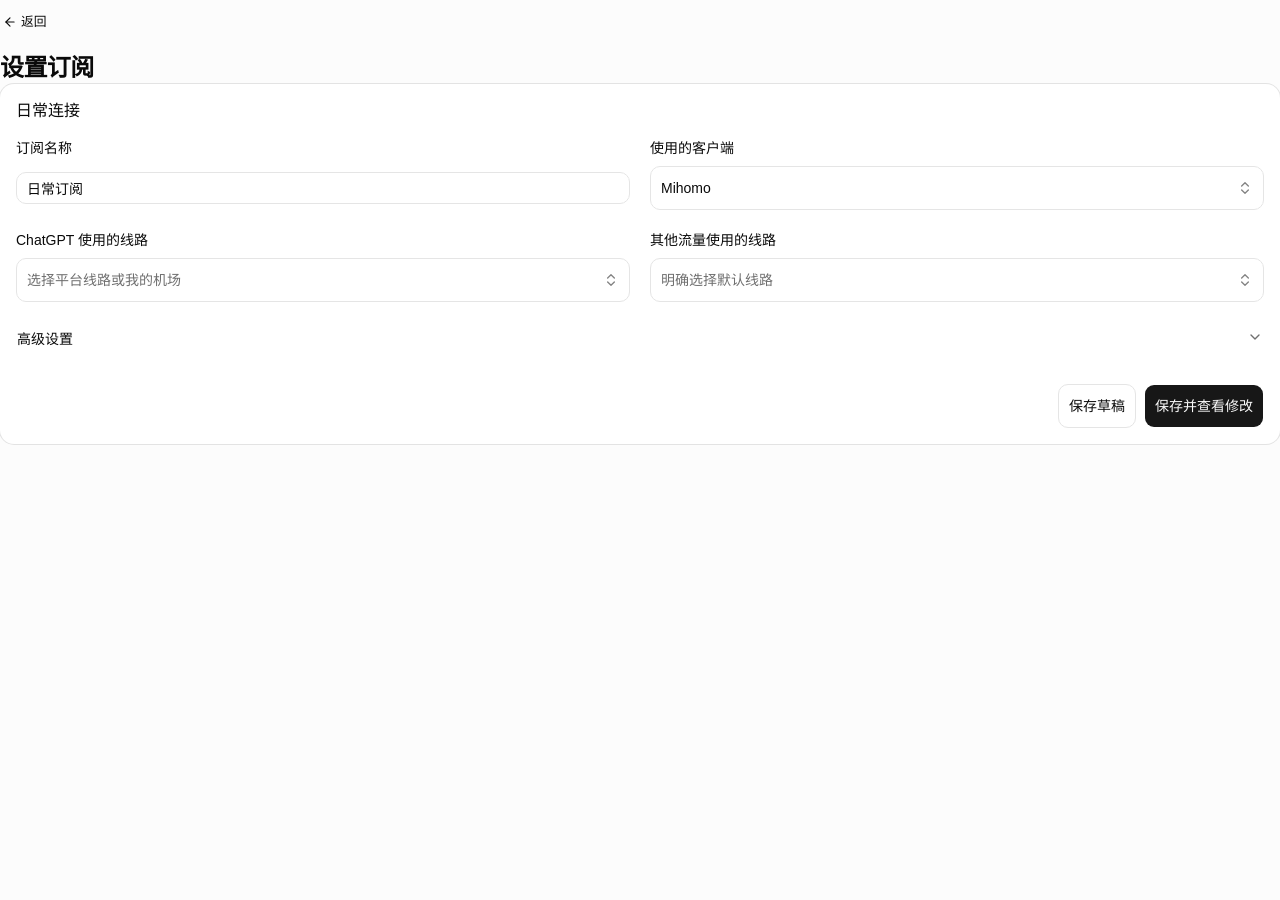
Scenario: keeps selected values after a failed preview and never publishes or shows an invented review
Click the dropdown named "ChatGPT 使用的线路" at (104, 280), box [16,258,630,302]
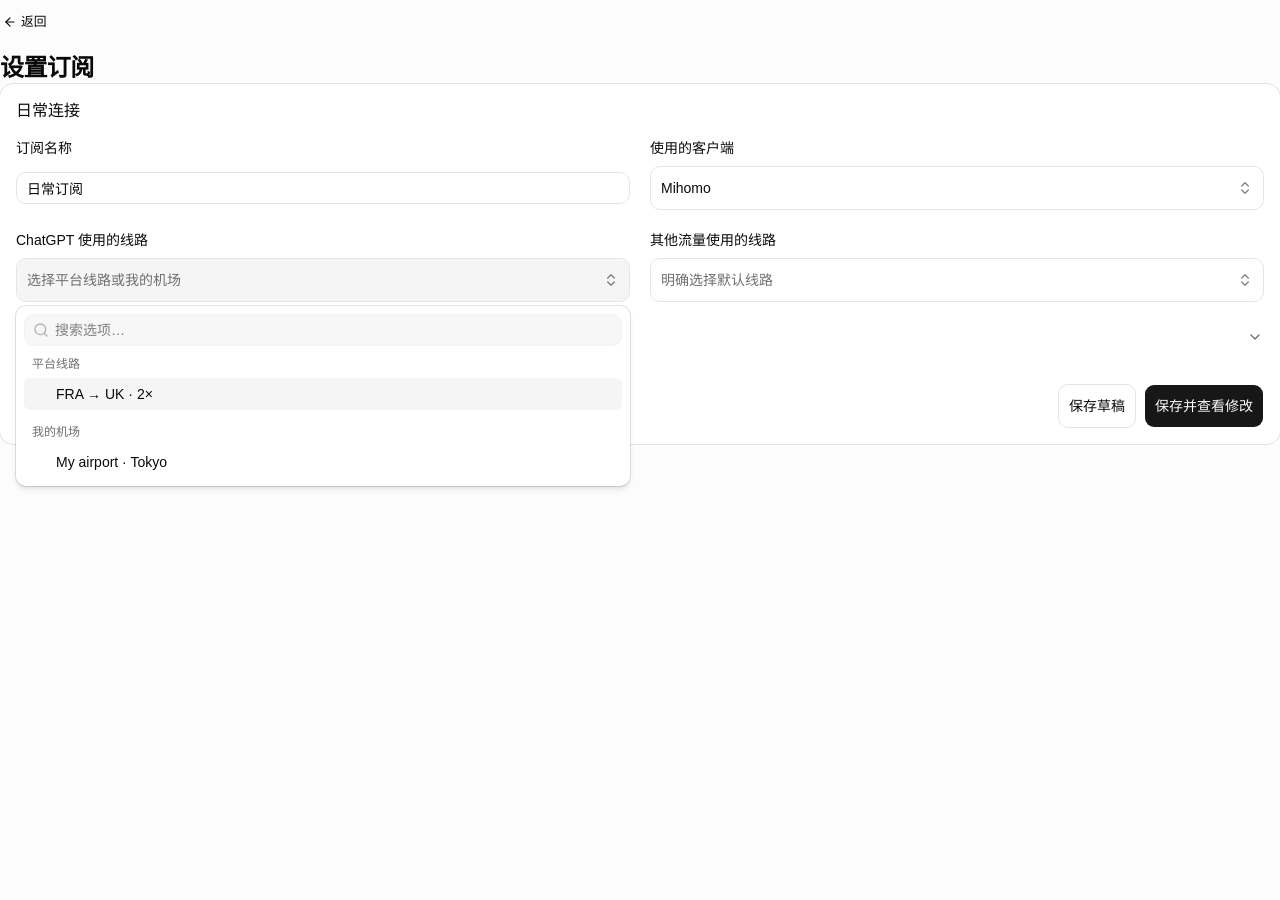
Click the option "FRA → UK · 2×" at (104, 394), box [24,378,622,410]
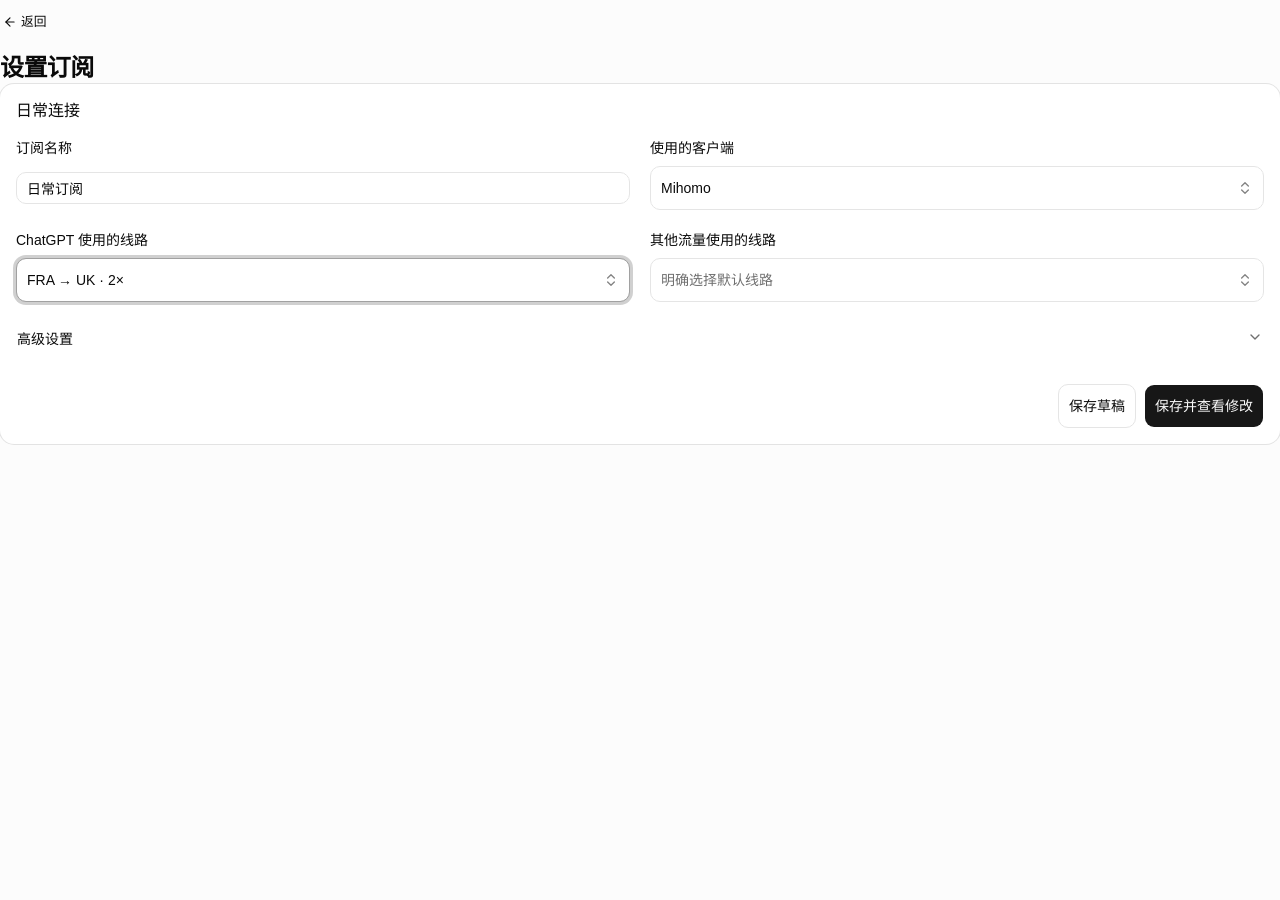
Click the dropdown named "其他流量使用的线路" at (717, 280), box [650,258,1264,302]
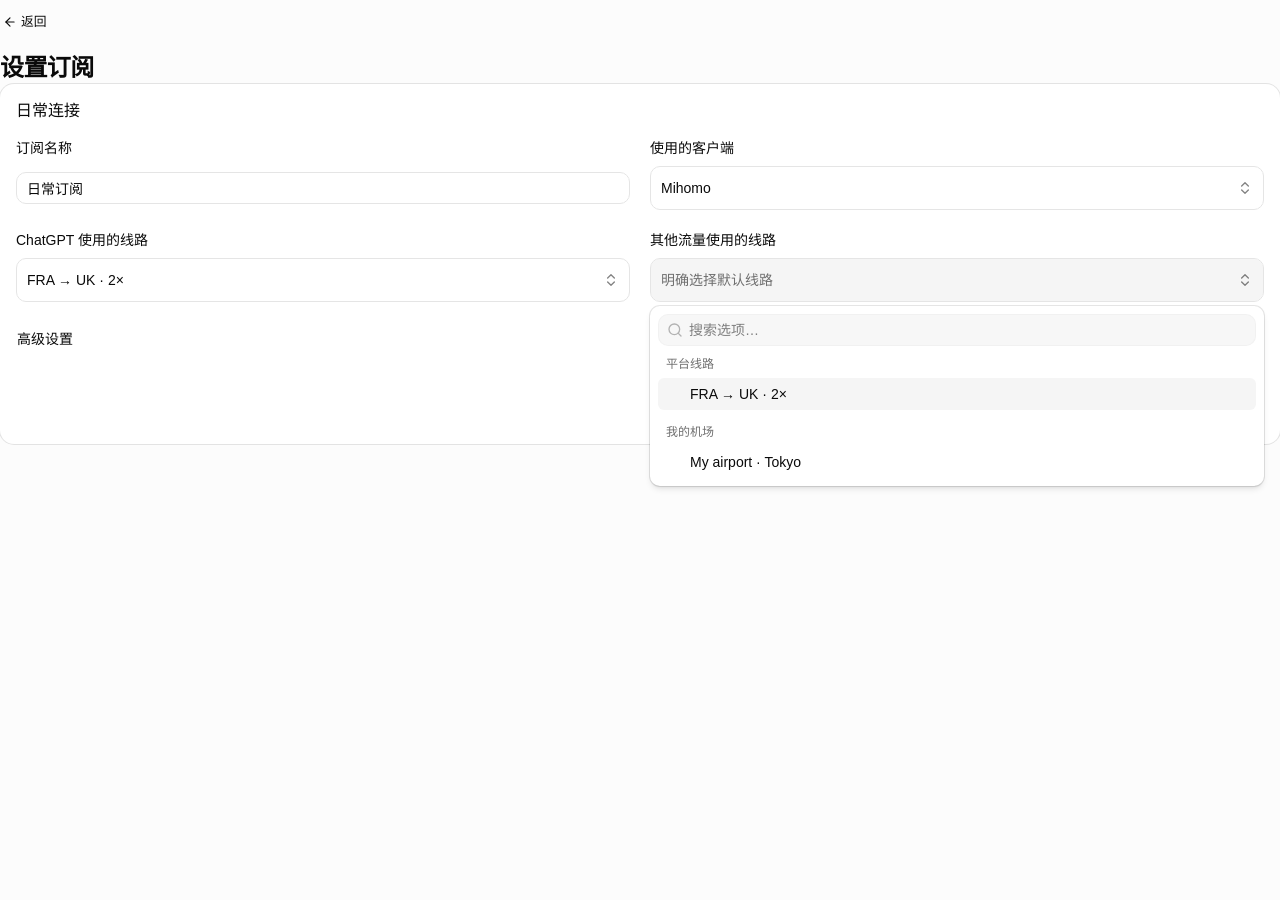
Click the option "My airport · Tokyo" at (746, 462), box [690,454,801,470]
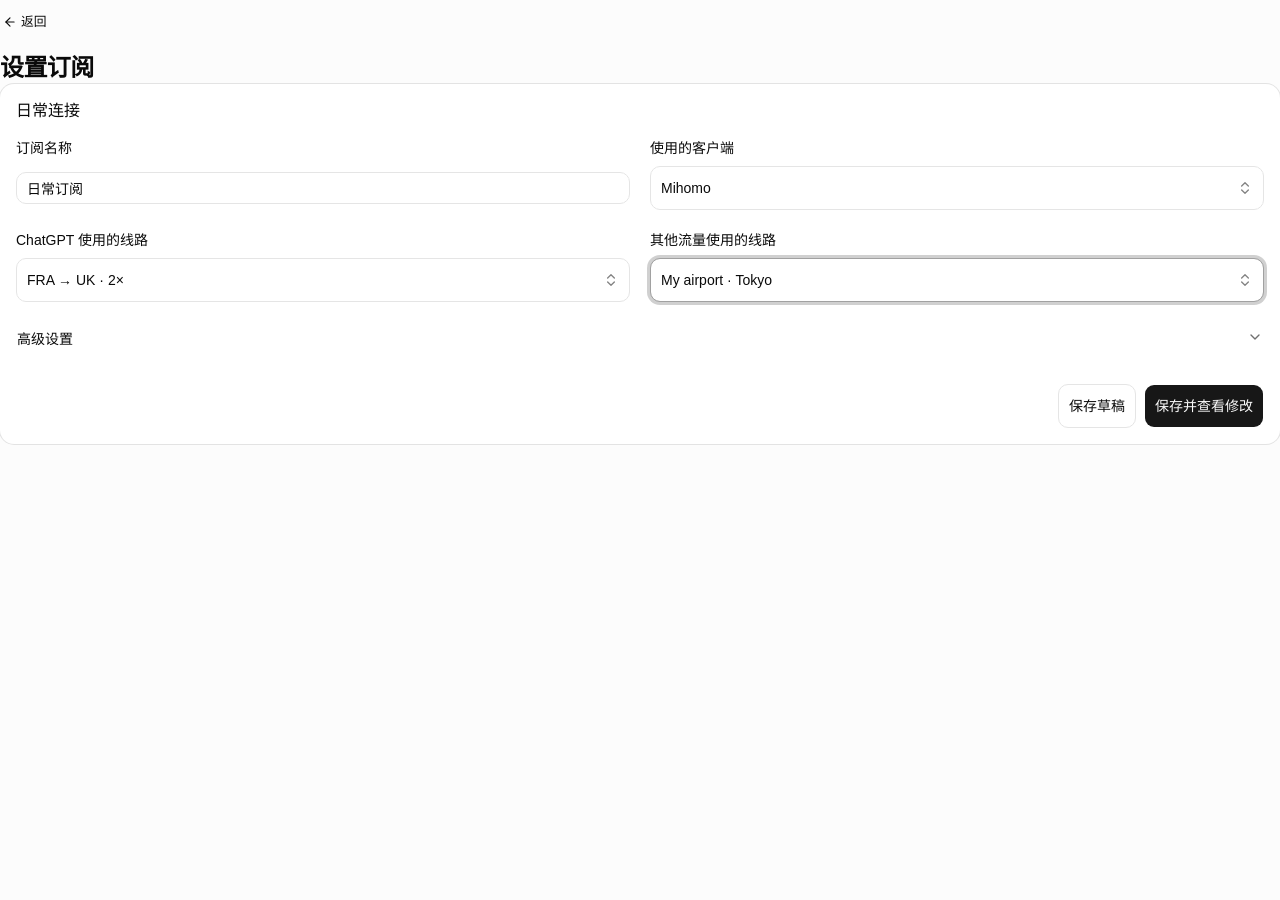
Click the button "保存并查看修改" at (1204, 406), box [1144,384,1264,428]
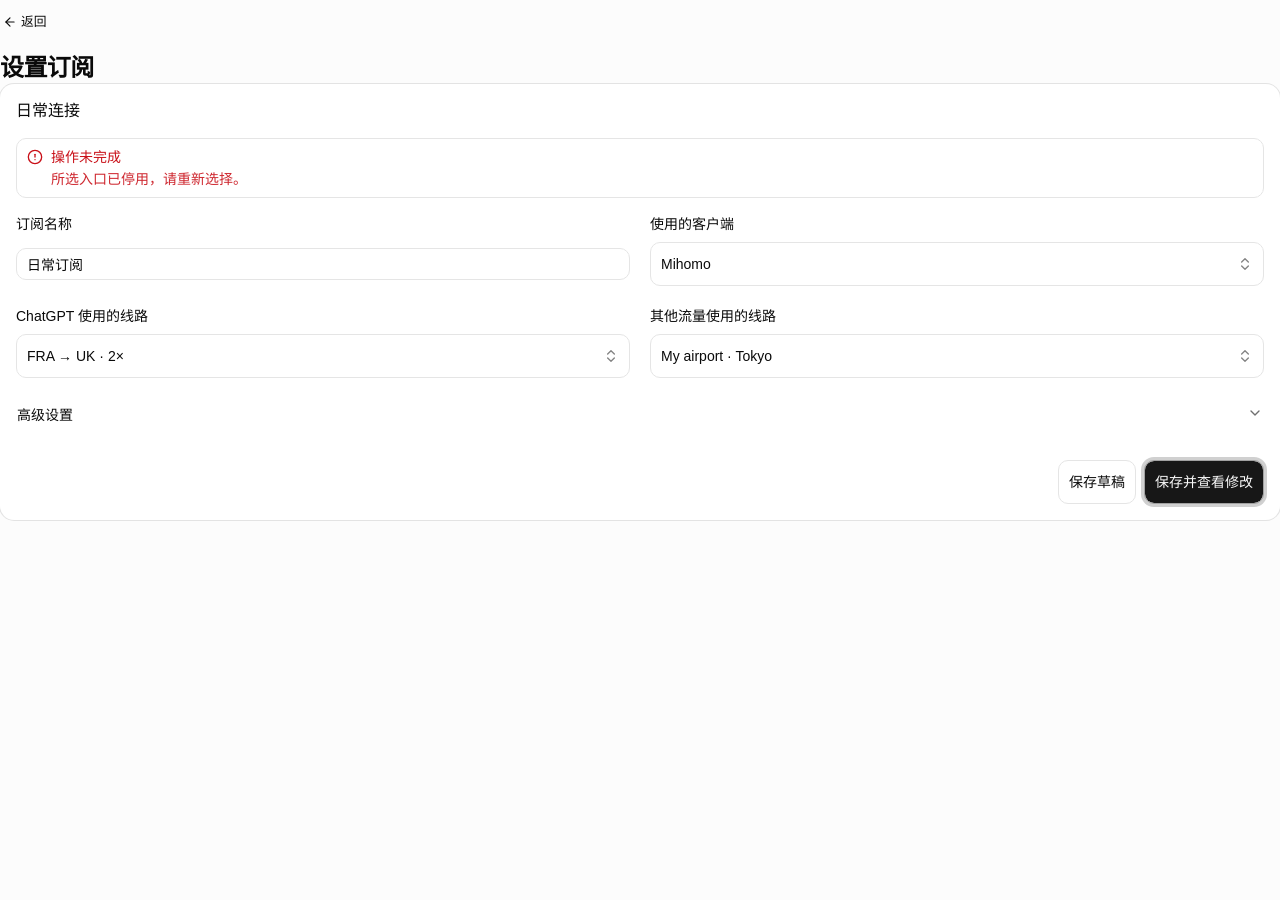
Expected: the text "My airport · Tokyo" is shown, [661,346,772,366]
Expected: the text "所选入口已停用，请重新选择。" is shown, [51,171,247,187]
